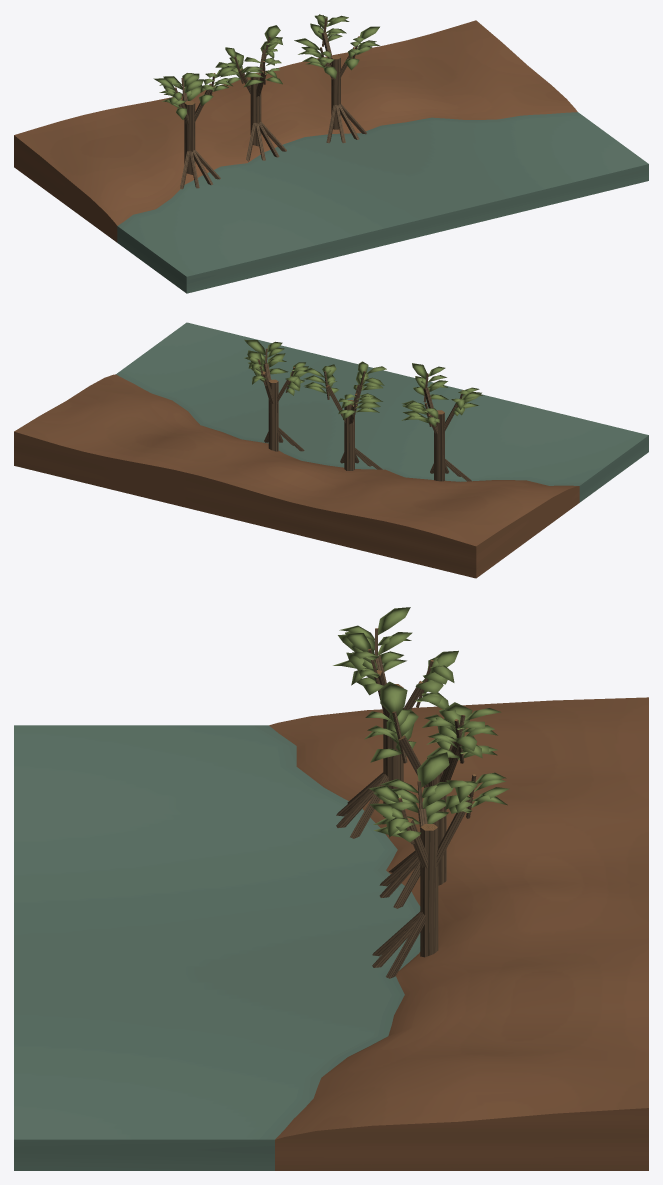
Rendered from koror.glb.
The picture shows the model from 3 angles, top to bottom: view 1: azimuth 30°, elevation 25°; view 2: azimuth 150°, elevation 25°; view 3: azimuth 270°, elevation 25°; orthographic projection. The views are drawn at different scales.
Visible parts, largest first — view 1: koror; view 2: koror; view 3: koror.
Boxes of the visible parts, bbox=[...] form: koror: bbox=[14, 14, 648, 293]; koror: bbox=[14, 322, 648, 578]; koror: bbox=[14, 607, 648, 1170].
Size of the model in its own units: 8 by 2.03 by 5.18.
Materials: 1 (1 with a texture image).
